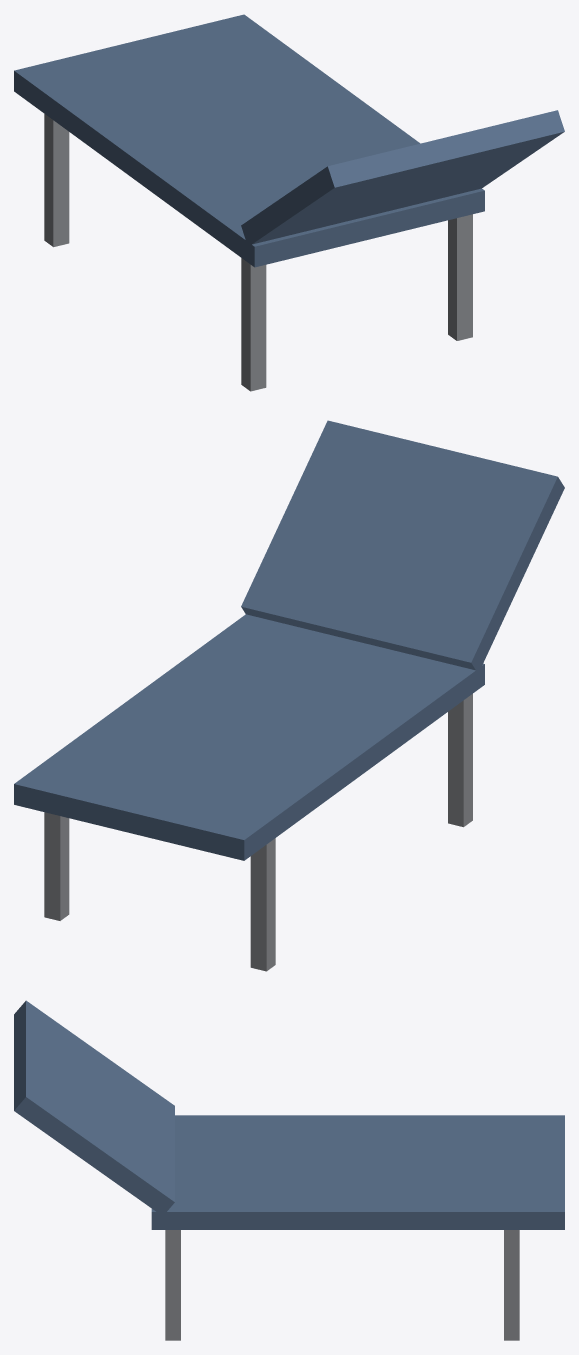
File: deck_chair.glb
3 renders of one model, top to bottom at view 1: azimuth 30°, elevation 25°; view 2: azimuth 150°, elevation 25°; view 3: azimuth 270°, elevation 25°, orthographic. The views are drawn at different scales.
Parts seen in each view (by area): view 1: deck_chair; view 2: deck_chair; view 3: deck_chair.
Part boxes in pixels (x1,y1,x2,y2): deck_chair: (14, 14, 564, 391); deck_chair: (14, 420, 564, 971); deck_chair: (14, 1000, 564, 1340).
Size of the model in its own units: 0.58 by 0.6875 by 1.4.
